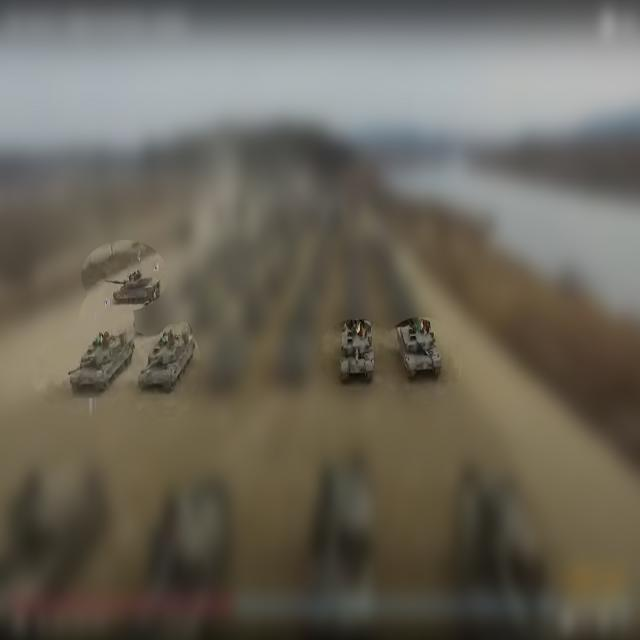tank: (137, 323, 197, 393), (69, 330, 136, 390), (395, 318, 447, 384), (103, 265, 163, 310), (339, 320, 377, 384)
